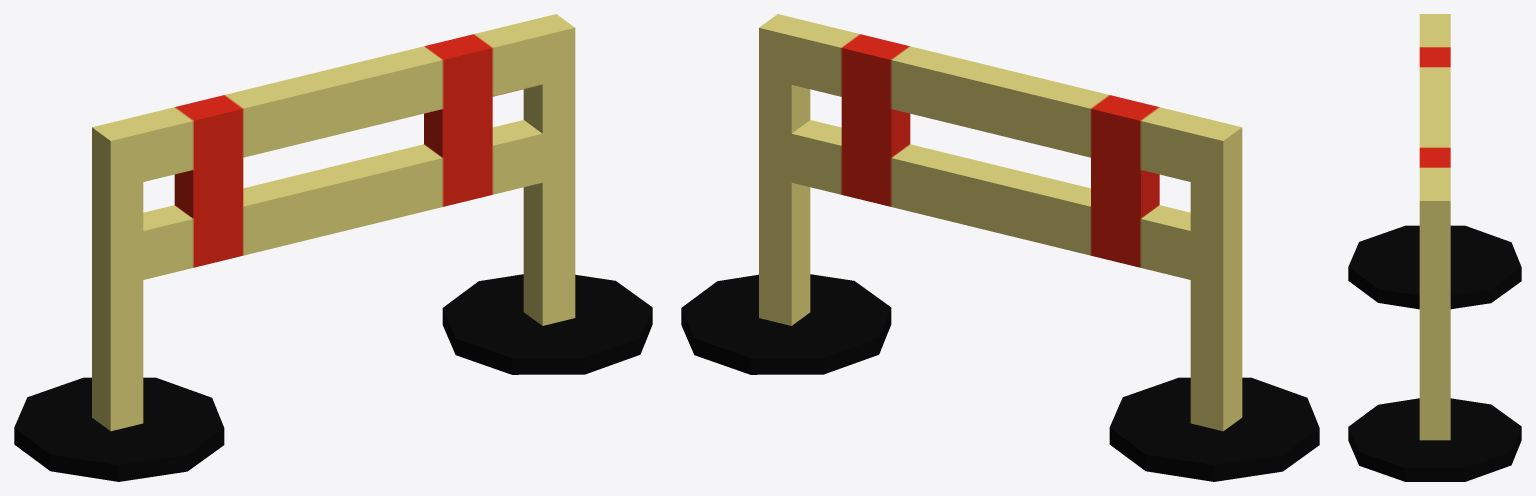
Rendered from fence.fbx.
The picture shows the model from 3 angles, left to right: view 1: azimuth 30°, elevation 25°; view 2: azimuth 150°, elevation 25°; view 3: azimuth 270°, elevation 25°; orthographic projection. The views are drawn at different scales.
Visible parts, largest first — view 1: fence.001, Cylinder.010; view 2: fence.001, Cylinder.010; view 3: Cylinder.010, fence.001.
Part boxes in pixels (x1,y1,x2,y2): fence.001: [92, 14, 575, 431]; Cylinder.010: [14, 274, 652, 481]; fence.001: [759, 14, 1242, 431]; Cylinder.010: [681, 274, 1319, 481]; Cylinder.010: [1348, 225, 1521, 481]; fence.001: [1419, 14, 1450, 440].
Bounding box in the file's own units: 98.94 × 48.2 × 29.9.
